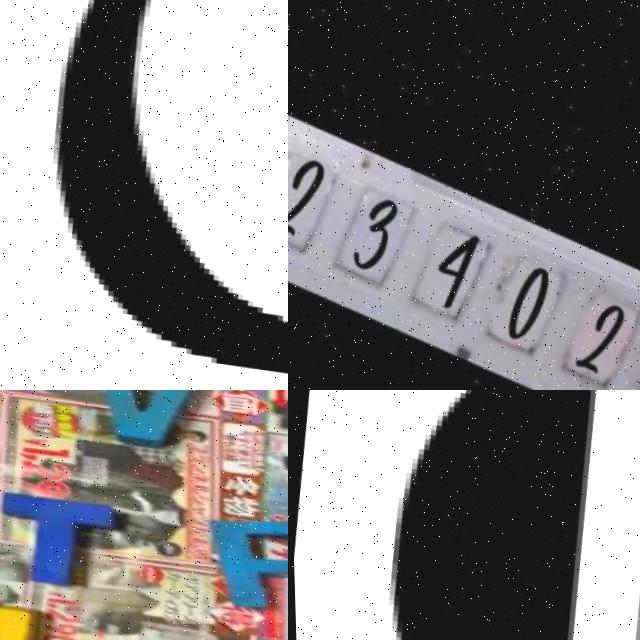0: (350, 390, 640, 640), (480, 244, 567, 354)
2: (555, 281, 637, 384), (288, 136, 338, 248)
3: (328, 177, 417, 284)
4: (403, 208, 493, 318)
L: (0, 605, 109, 640)
P: (203, 506, 288, 615)
T: (0, 492, 112, 589)
V: (86, 390, 202, 445)
